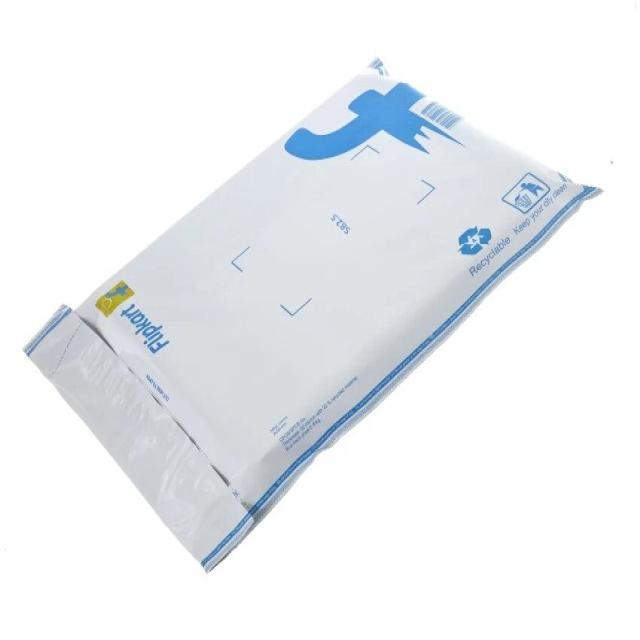cardboxes: (1, 5, 612, 597)
